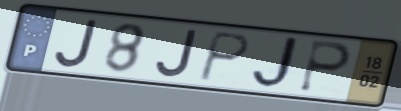8: (102, 21, 149, 75)
J: (249, 35, 307, 91), (53, 17, 102, 70), (154, 28, 200, 80)
P: (295, 38, 354, 96), (195, 29, 254, 84)
